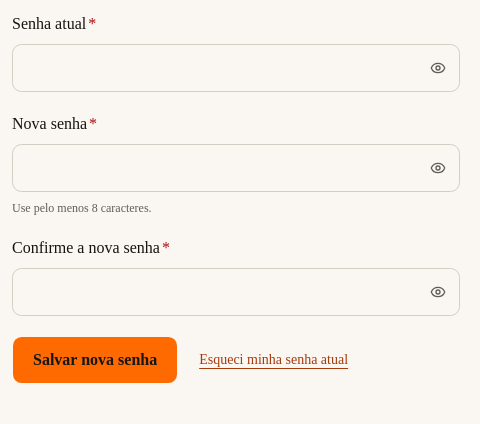
requires the confirmation to match
Type "senha-antiga" into the password field labelled "Senha atual*" at (236, 68), box [12,44,460,92]
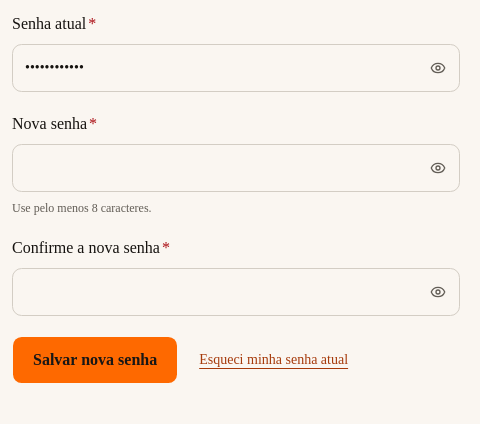
Type "senha-nova-123" into the password field labelled "Nova senha*" at (236, 168), box [12,144,460,192]
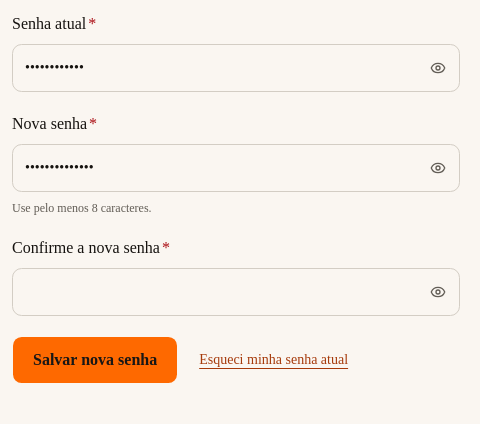
Type "outra-senha-123" into the password field labelled "Confirme a nova senha*" at (236, 292), box [12,268,460,316]
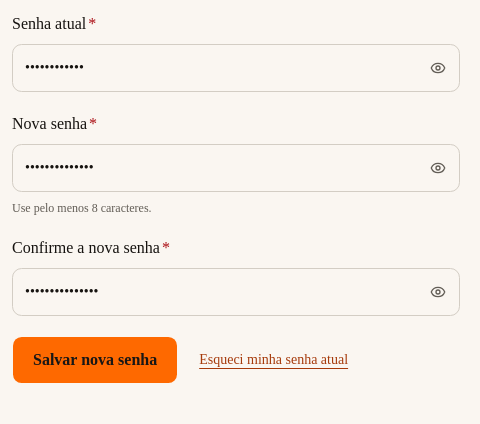
Click the button "Salvar nova senha" at (95, 360), box [12,336,178,384]
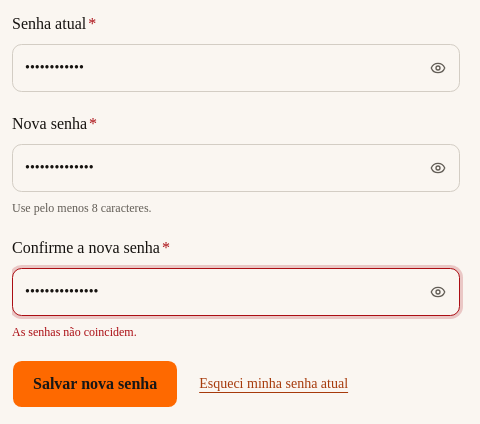
Expected: the text "As senhas não coincidem." is shown, [12,325,137,339]
